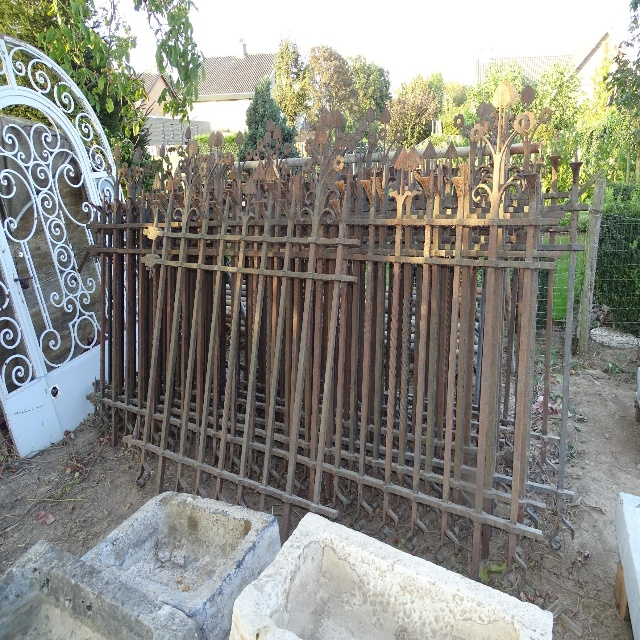obstacle: (0, 160, 515, 638)
